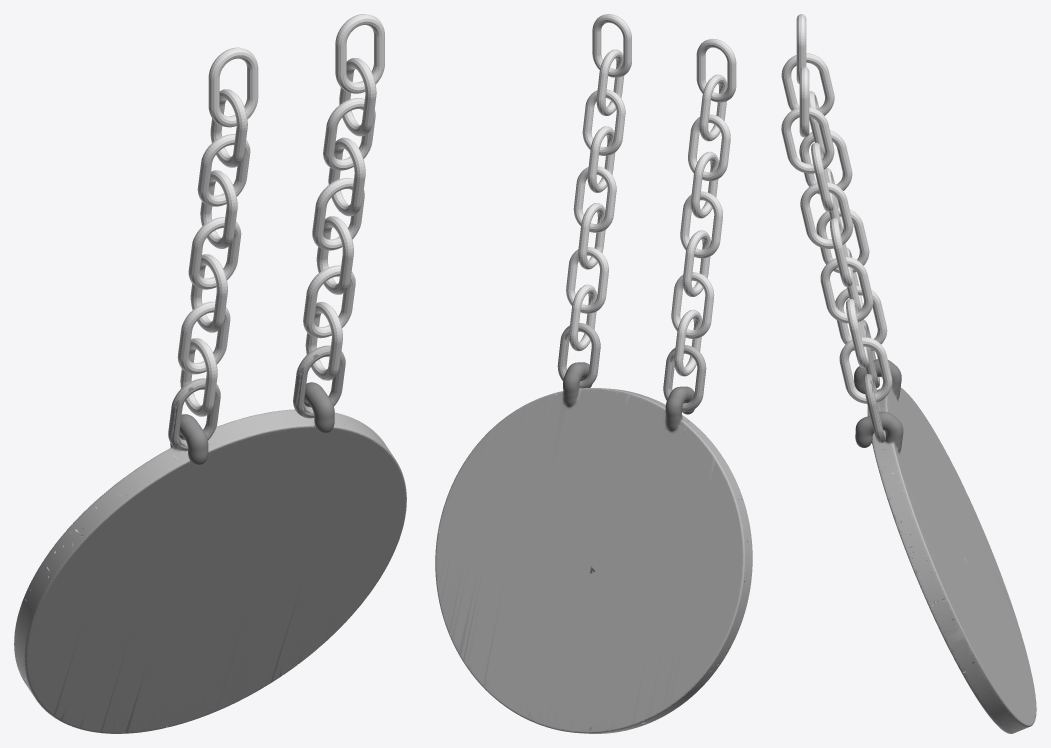
File: sign-animation.glb
3 views of the same model, side by side, from view 1: azimuth 30°, elevation 25°; view 2: azimuth 150°, elevation 25°; view 3: azimuth 270°, elevation 25° (orthographic). The views are drawn at different scales.
Parts seen in each view (by area): view 1: Torus.074, Torus.072, Torus.056, Torus.062, Torus.059, Torus.051, Torus.001, Torus.063, Torus.070, Torus.002, Torus.071, Torus.050 (+4 smaller); view 2: Torus.074, Torus.072, Torus.070, Torus.062, Torus.002, Torus.056, Torus.059, Torus.051, Torus.050, Torus.058, Torus.061, Torus.063 (+4 smaller); view 3: Torus.074, Torus.063, Torus.061, Torus.071, Torus.001, Torus.072, Torus.050, Torus.053, Torus.058, Torus.060, Torus.062, Torus.070 (+1 smaller).
Boxes of the visible parts, bbox=[...] form: Torus.074: bbox=[14, 345, 406, 733]; Torus.072: bbox=[208, 14, 384, 127]; Torus.056: bbox=[188, 217, 241, 289]; Torus.062: bbox=[303, 265, 355, 338]; Torus.059: bbox=[177, 301, 230, 374]; Torus.051: bbox=[197, 134, 250, 206]; Torus.001: bbox=[328, 137, 365, 216]; Torus.063: bbox=[316, 216, 353, 294]; Torus.070: bbox=[323, 98, 375, 170]; Torus.002: bbox=[312, 177, 364, 250]; Torus.071: bbox=[339, 58, 376, 136]; Torus.050: bbox=[210, 89, 247, 167]; Torus.074: bbox=[435, 323, 752, 733]; Torus.072: bbox=[592, 14, 736, 102]; Torus.070: bbox=[582, 89, 625, 155]; Torus.062: bbox=[566, 247, 608, 313]; Torus.002: bbox=[573, 166, 616, 232]; Torus.056: bbox=[680, 191, 722, 258]; Torus.059: bbox=[671, 272, 714, 338]; Torus.051: bbox=[688, 114, 730, 181]; Torus.050: bbox=[699, 74, 727, 141]; Torus.058: bbox=[682, 230, 711, 296]; Torus.061: bbox=[569, 284, 597, 351]; Torus.063: bbox=[578, 203, 605, 269]; Torus.074: bbox=[854, 319, 1036, 733]; Torus.063: bbox=[820, 256, 873, 323]; Torus.061: bbox=[839, 337, 892, 403]; Torus.071: bbox=[781, 107, 834, 173]; Torus.001: bbox=[800, 182, 853, 248]; Torus.072: bbox=[796, 14, 809, 137]; Torus.050: bbox=[781, 53, 834, 115]; Torus.053: bbox=[799, 130, 852, 194]; Torus.058: bbox=[816, 207, 869, 273]; Torus.060: bbox=[835, 285, 887, 350]; Torus.062: bbox=[846, 299, 868, 367]; Torus.070: bbox=[811, 142, 833, 211].
Bounding box in the file's own units: 7.39 × 14.84 × 5.1.
1 material, 1 textured.
